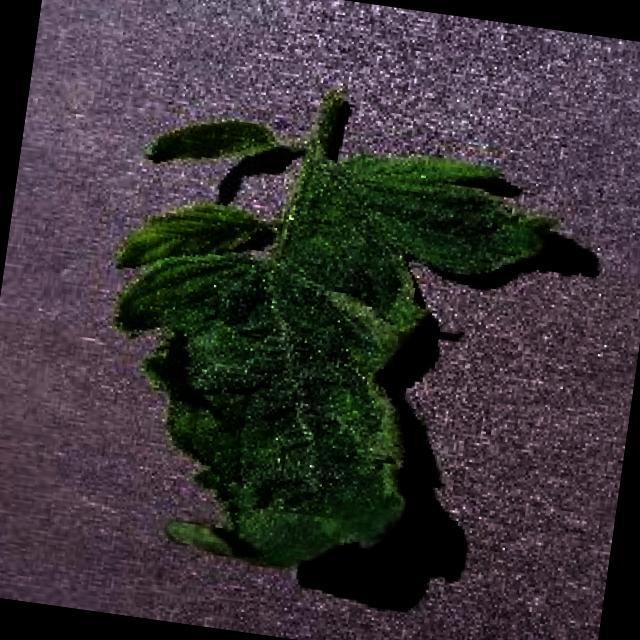Tomato mosaic virus leaf: (72, 108, 576, 606)
